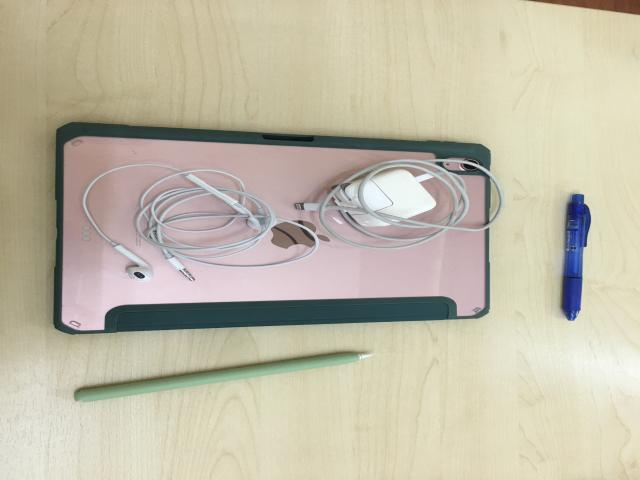Pen: (561, 193, 593, 322)
wire: (81, 162, 316, 283), (325, 162, 466, 228)
